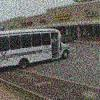buses: (0, 27, 69, 70)
